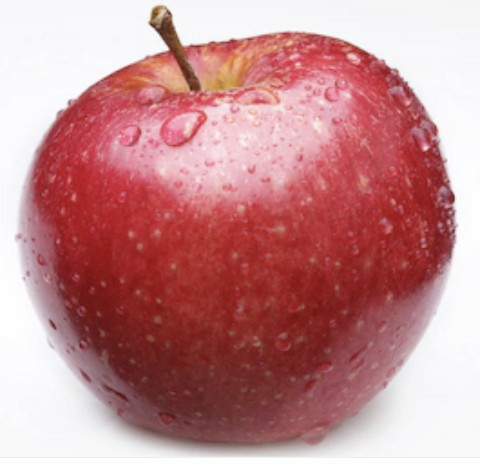fresh_apple: (21, 37, 457, 441)
